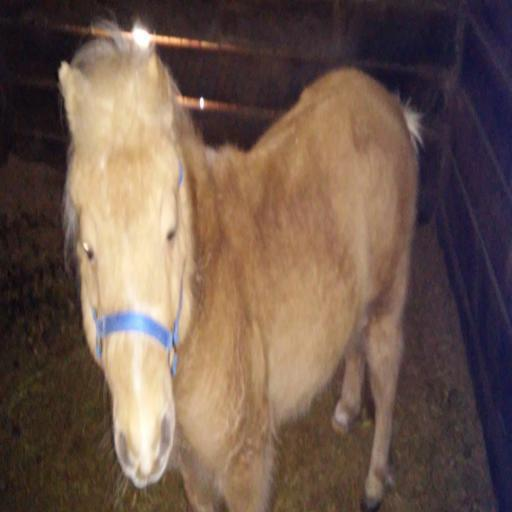horse: (57, 13, 426, 512)
